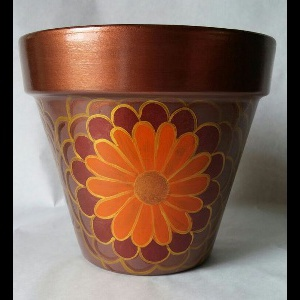flowerpot: (18, 23, 277, 277)
